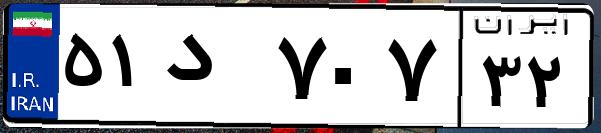0: (330, 28, 385, 110)
1: (110, 28, 158, 98)
2: (525, 38, 570, 115)
3: (475, 38, 525, 113)
5: (57, 26, 110, 100)
7: (270, 28, 330, 110), (385, 28, 445, 110)
د: (158, 20, 270, 120)
